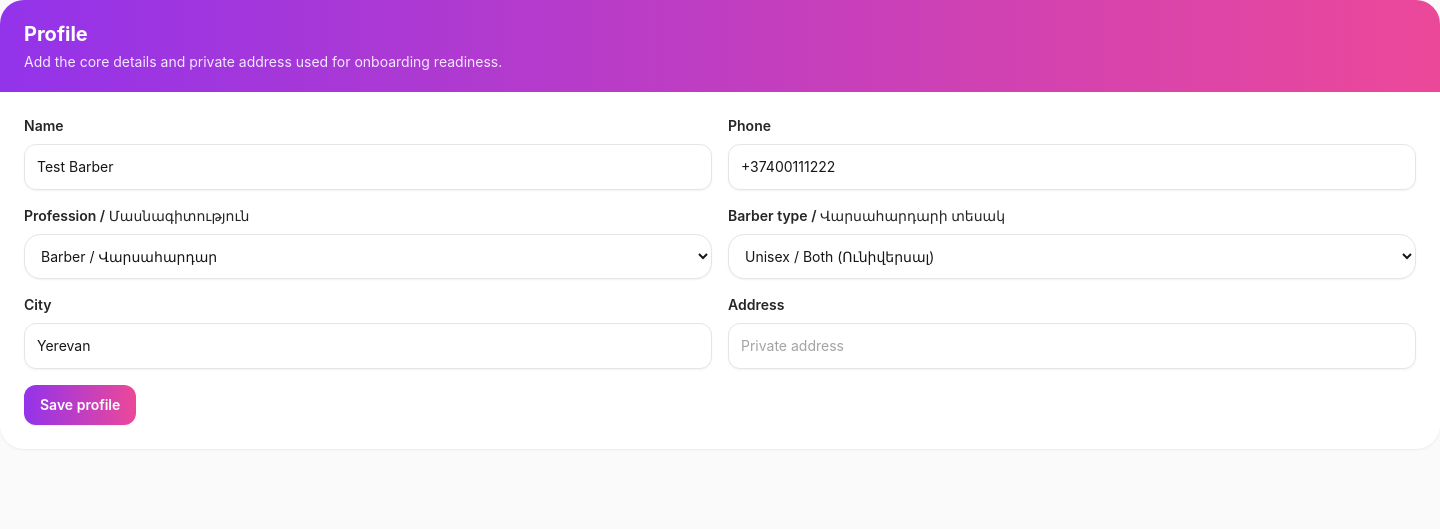
Test: ProfessionalBasicsStep onboarding validation › requires an address for independent while professional basics is active
Click the button "Save profile" at (80, 405), box x1=24 y1=385 x2=136 y2=425
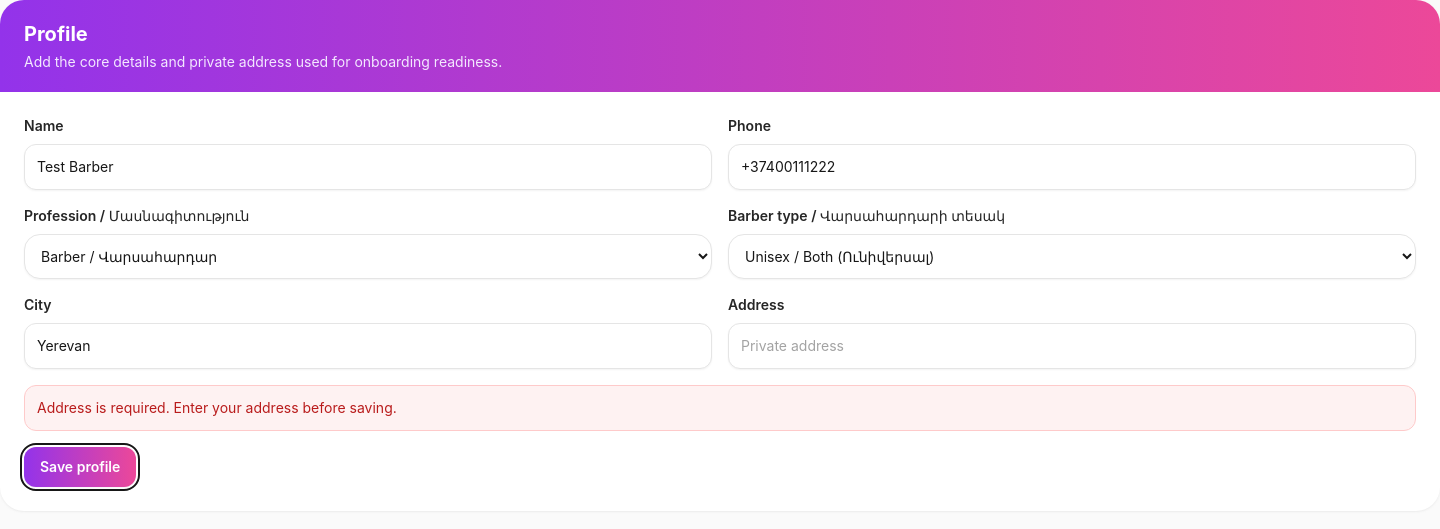
Expected: the text "Address is required. Enter your address before saving." is shown, x1=24 y1=385 x2=1416 y2=431
